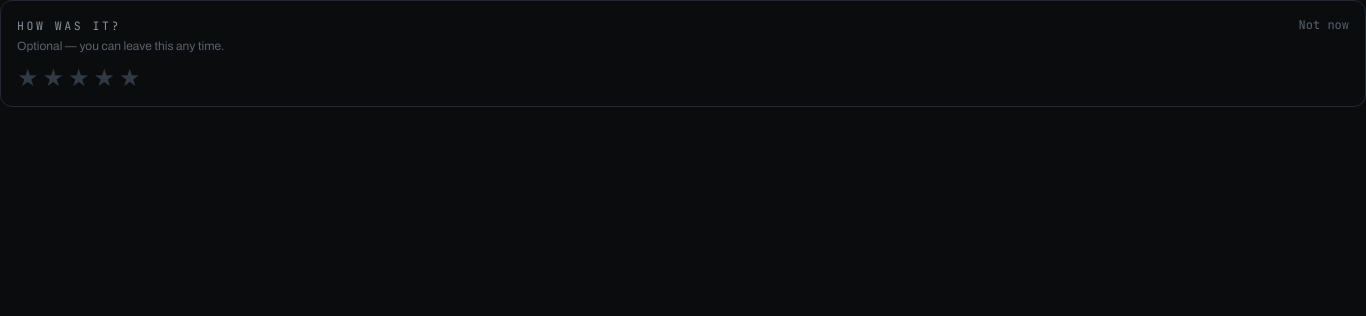
Test case: RatingPrompt › surfaces a refusal from the server
Click the radio button named "5 stars" at [130, 78], box [119,66,141,90]
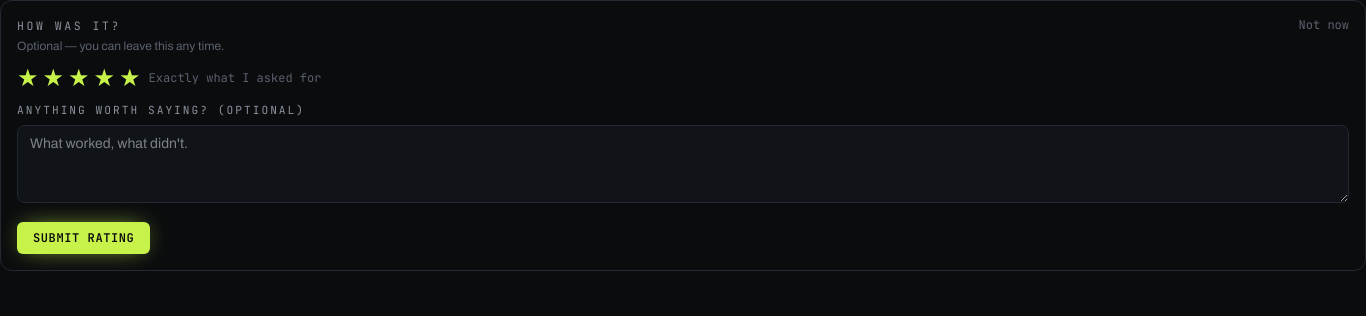
Click the button "Submit rating" at [84, 238], box [17,222,150,254]
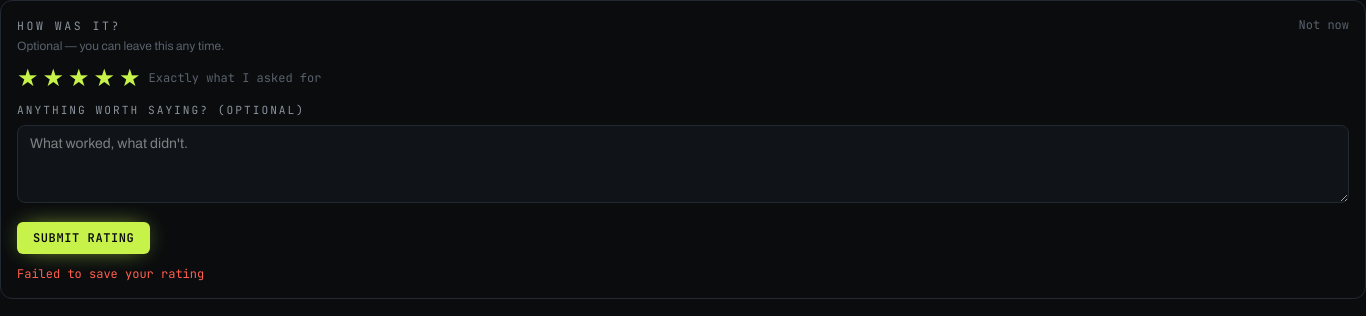
Check: the message "Failed to save your rating" is shown, box [17,266,204,282]
